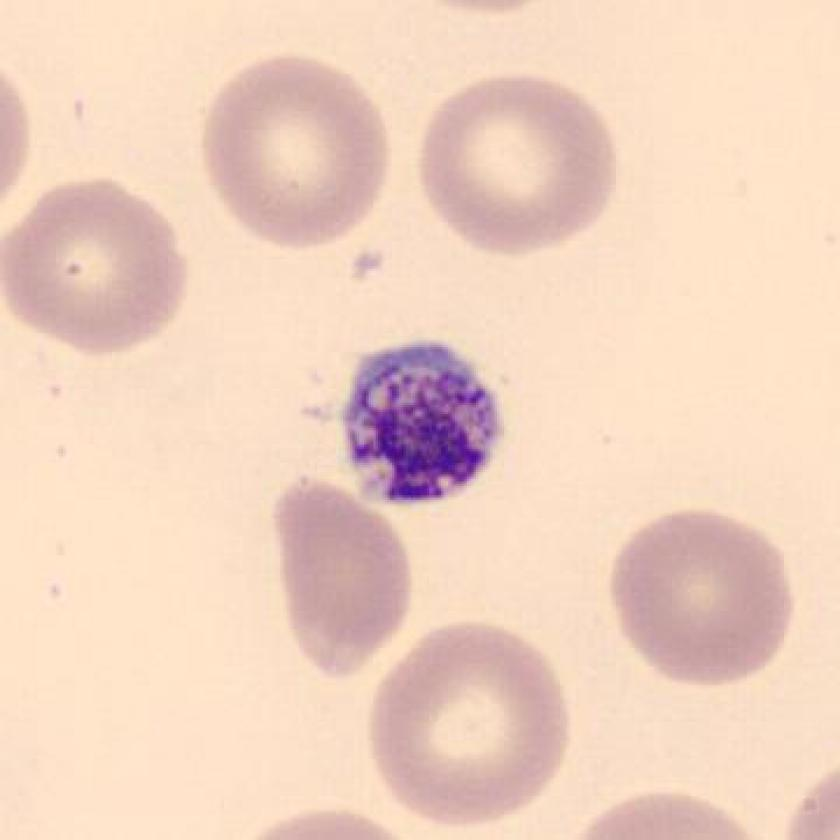platelets: (337, 332, 514, 512)
